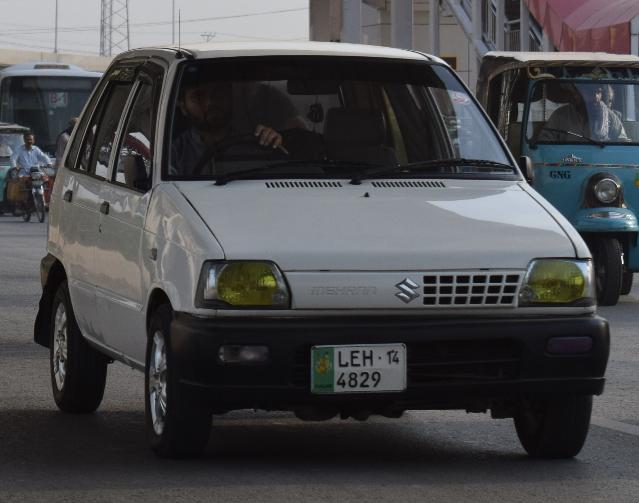plate: (313, 345, 407, 394)
